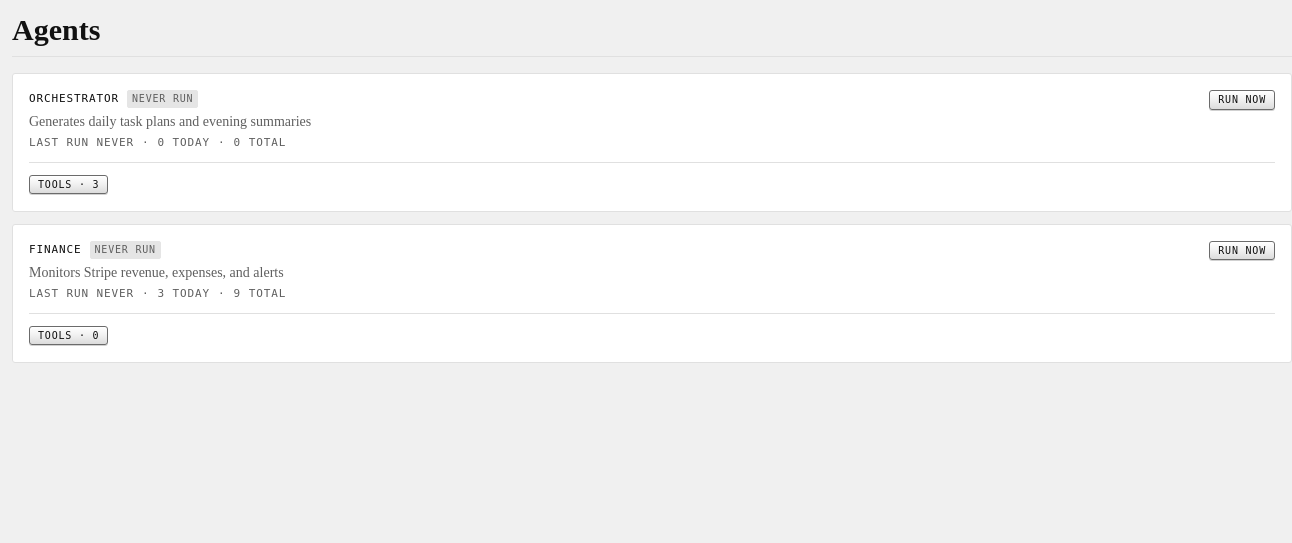
Test case: Agents page toolbox (V20 L4) › merges duplicate agent rows by tool name — every granted tool appears once, never twice
Click the button "Tools · 3".
click(69, 185)  # box [29,175,108,194]
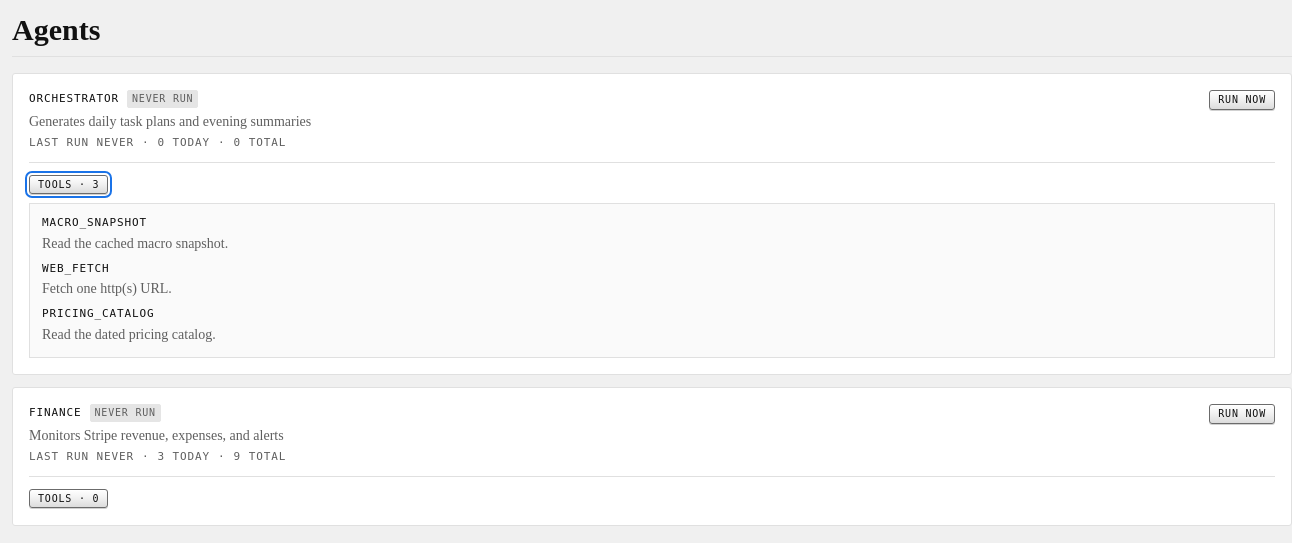
Now the number of list items is 3, box [42,216,228,251]; [42,262,172,296]; [42,307,216,342]
Now the text "macro_snapshot" is shown once, box [42,216,147,229]
Now the text "web_fetch" is shown, box [42,262,110,274]
